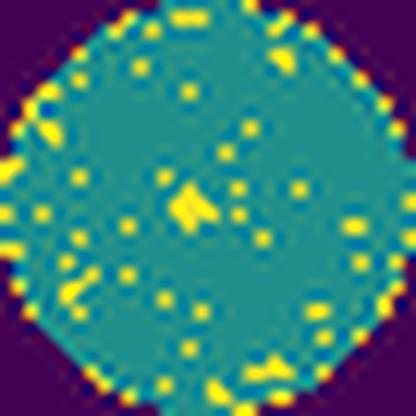Center: (162, 176, 224, 242)
